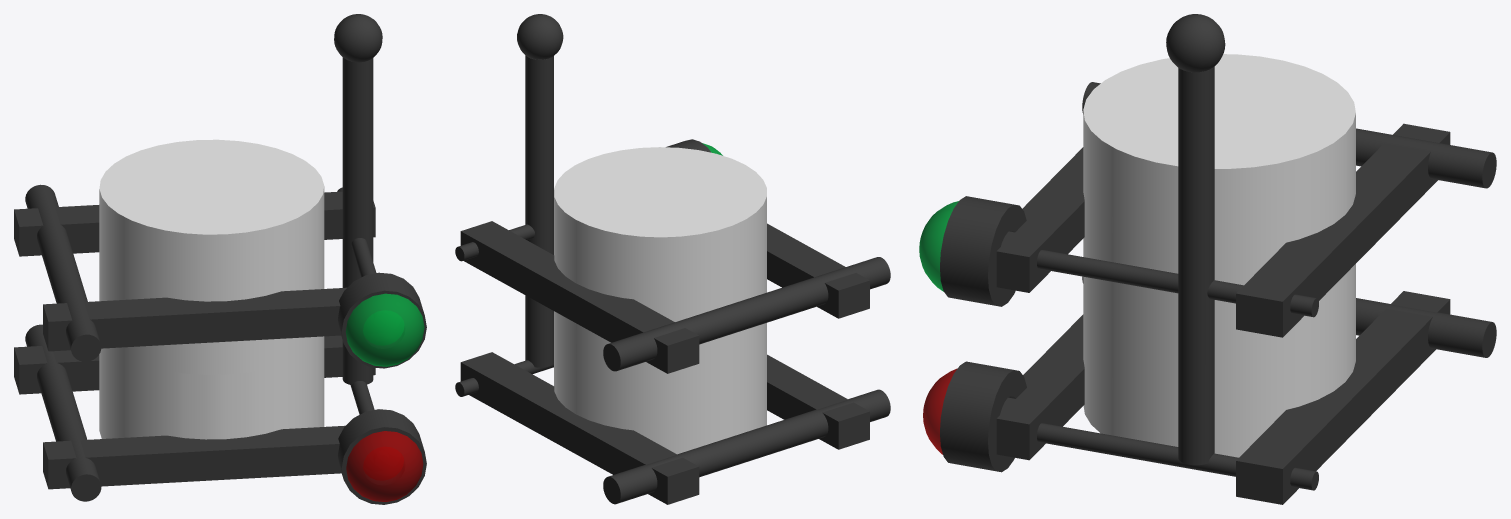
File: mini_Kit.fbx
The picture shows the model from 3 angles, left to right: view 1: azimuth 30°, elevation 25°; view 2: azimuth 150°, elevation 25°; view 3: azimuth 270°, elevation 25°; orthographic projection. The views are drawn at different scales.
Parts seen in each view (by area): view 1: pSphere7; view 2: pSphere7; view 3: pSphere7.
Boxes of the visible parts, x1,y1,x2,y2 form: pSphere7: (14, 14, 426, 504); pSphere7: (455, 14, 890, 504); pSphere7: (919, 14, 1496, 504).
Bounding box in the file's own units: 1.53 × 1.55 × 1.68.
